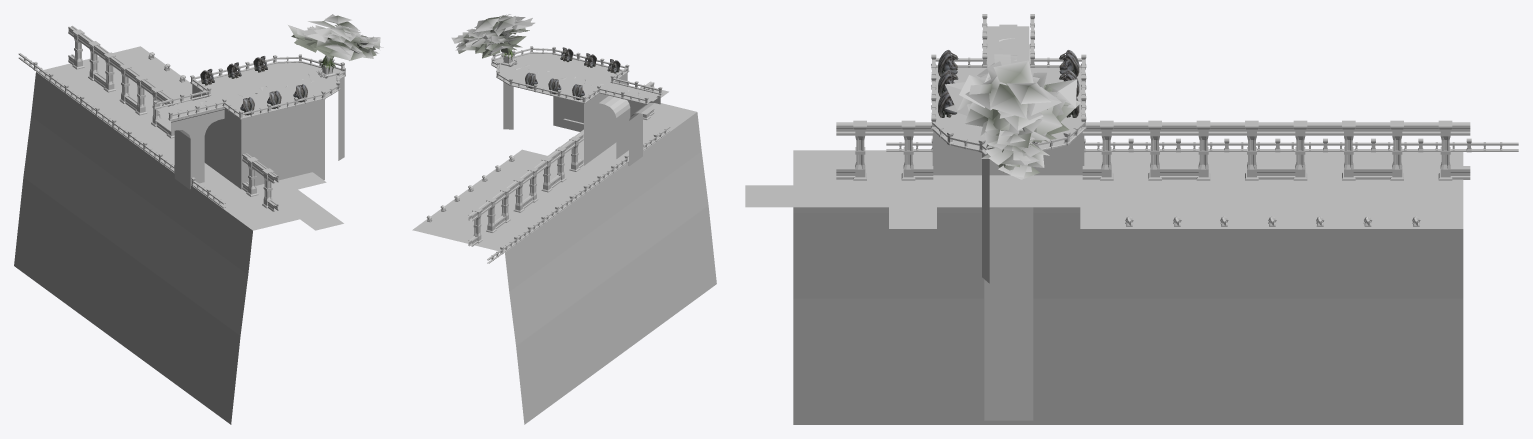
The model's file is Area_008.FBX.
The picture shows the model from 3 angles, left to right: view 1: azimuth 30°, elevation 25°; view 2: azimuth 150°, elevation 25°; view 3: azimuth 270°, elevation 25°; orthographic projection. The views are drawn at different scales.
Visible parts, largest first — view 1: Area_008; view 2: Area_008; view 3: Area_008.
Boxes of the visible parts, bbox=[...] form: Area_008: bbox=[14, 14, 383, 424]; Area_008: bbox=[412, 14, 716, 424]; Area_008: bbox=[745, 14, 1518, 424].
Size of the model in its own units: 4191 by 5527 by 8076.
